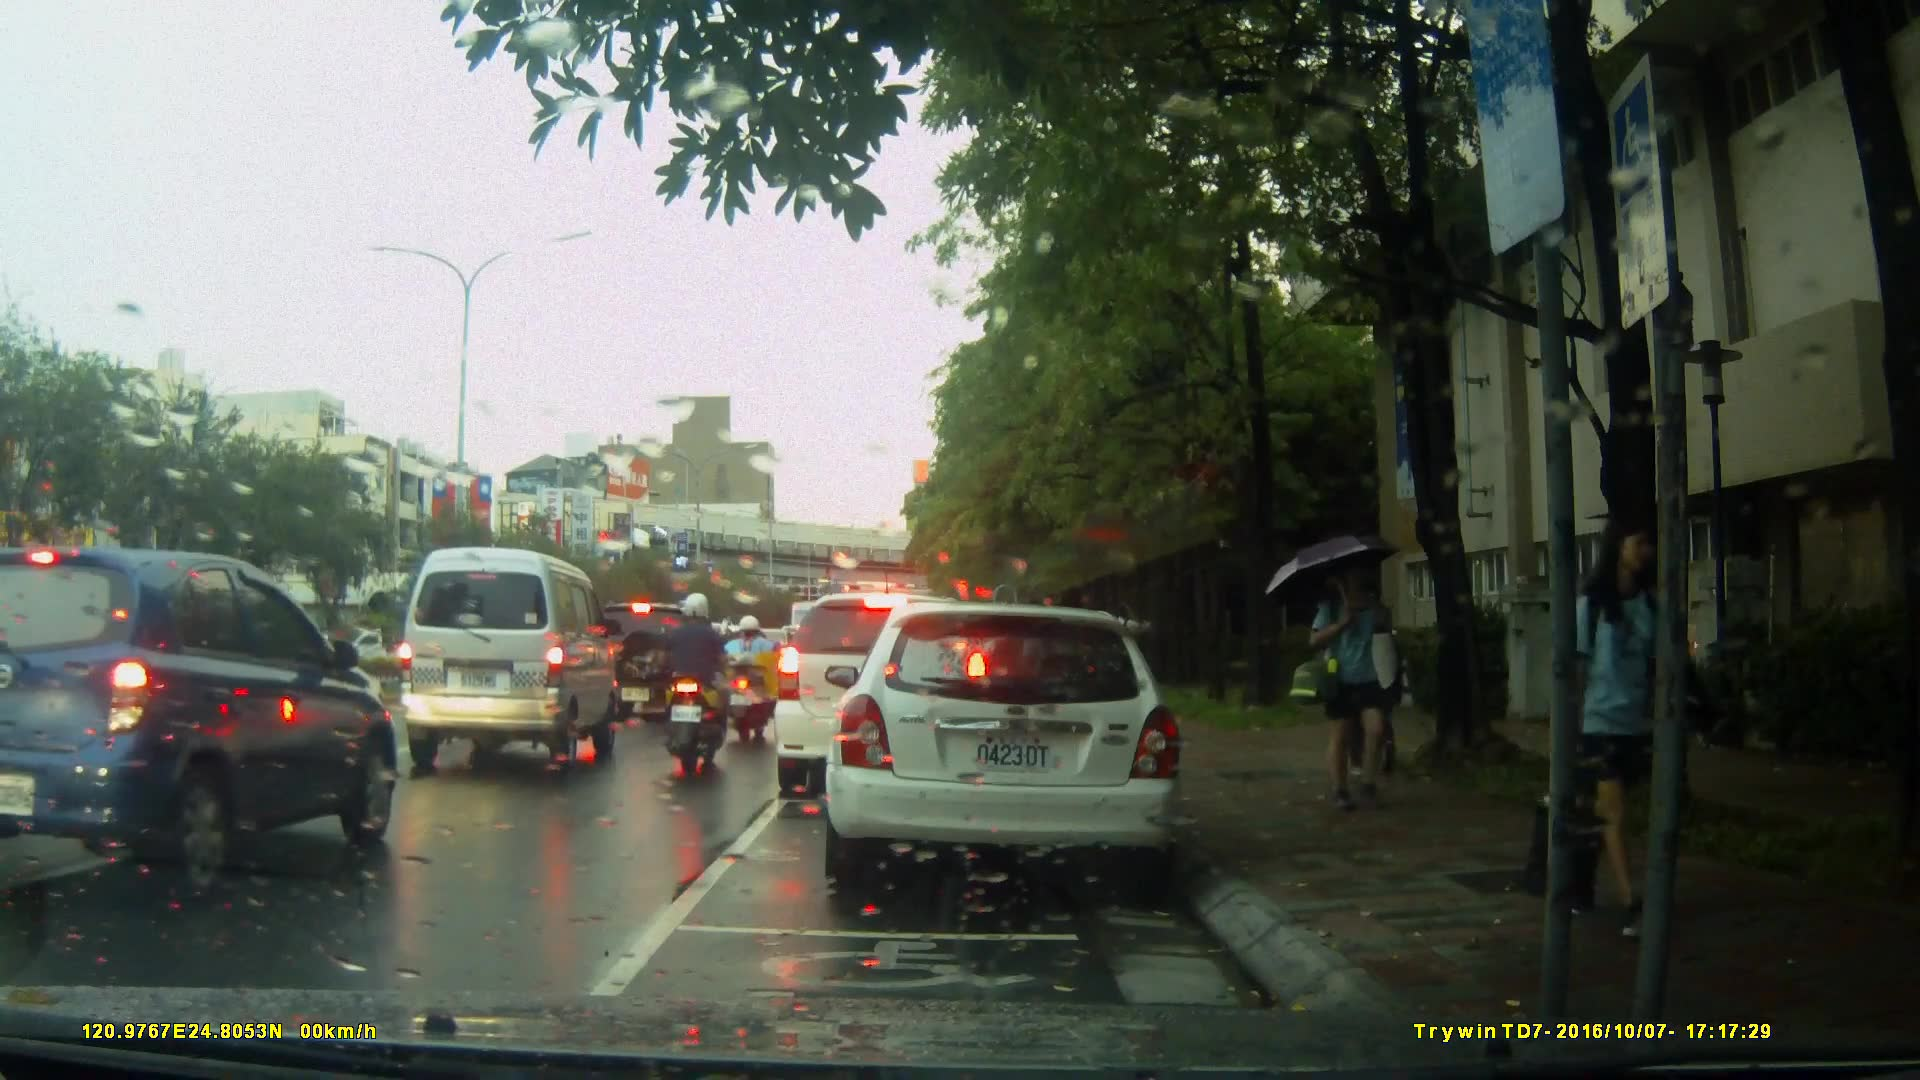pedestrian: (1567, 493, 1683, 957), (1313, 550, 1398, 821), (1328, 566, 1405, 788)
rider: (663, 587, 735, 784), (719, 615, 774, 747)
vehicle: (1, 545, 406, 897), (815, 593, 1204, 909), (393, 546, 621, 771), (770, 590, 993, 802), (583, 603, 737, 725)
